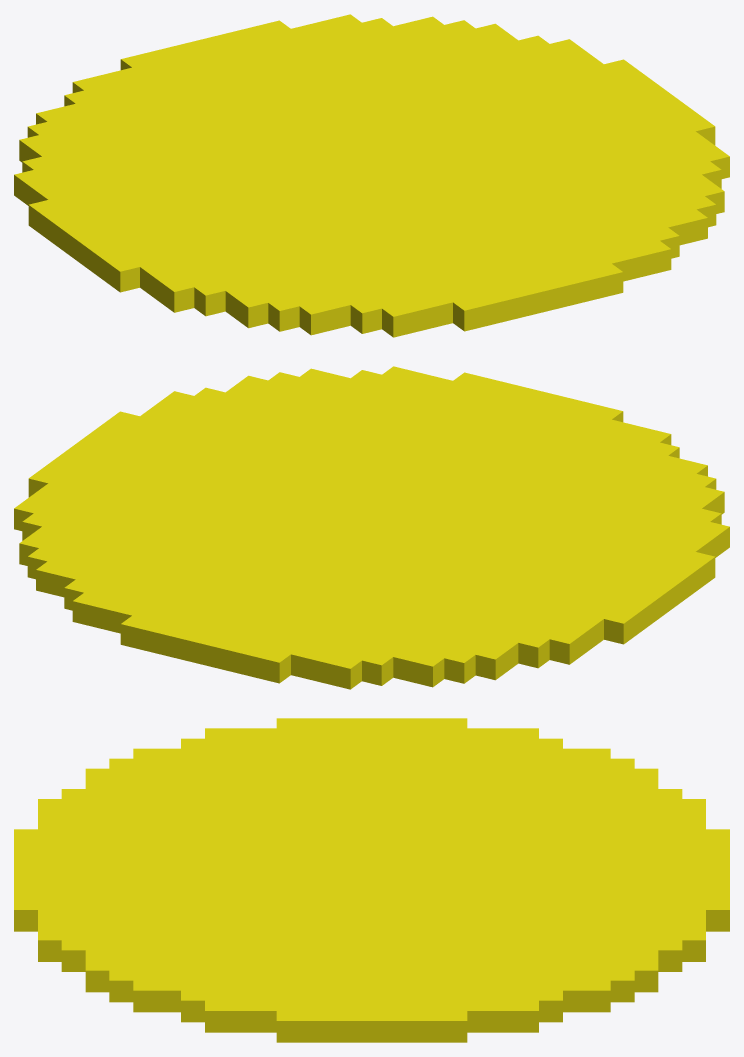
Rendered from ZonaRiesgoAmarilla.obj.
The picture shows the model from 3 angles, top to bottom: view 1: azimuth 30°, elevation 25°; view 2: azimuth 150°, elevation 25°; view 3: azimuth 270°, elevation 25°; orthographic projection. The views are drawn at different scales.
Size of the model in its own units: 3 by 0.1 by 3.
1 material, 1 textured.
